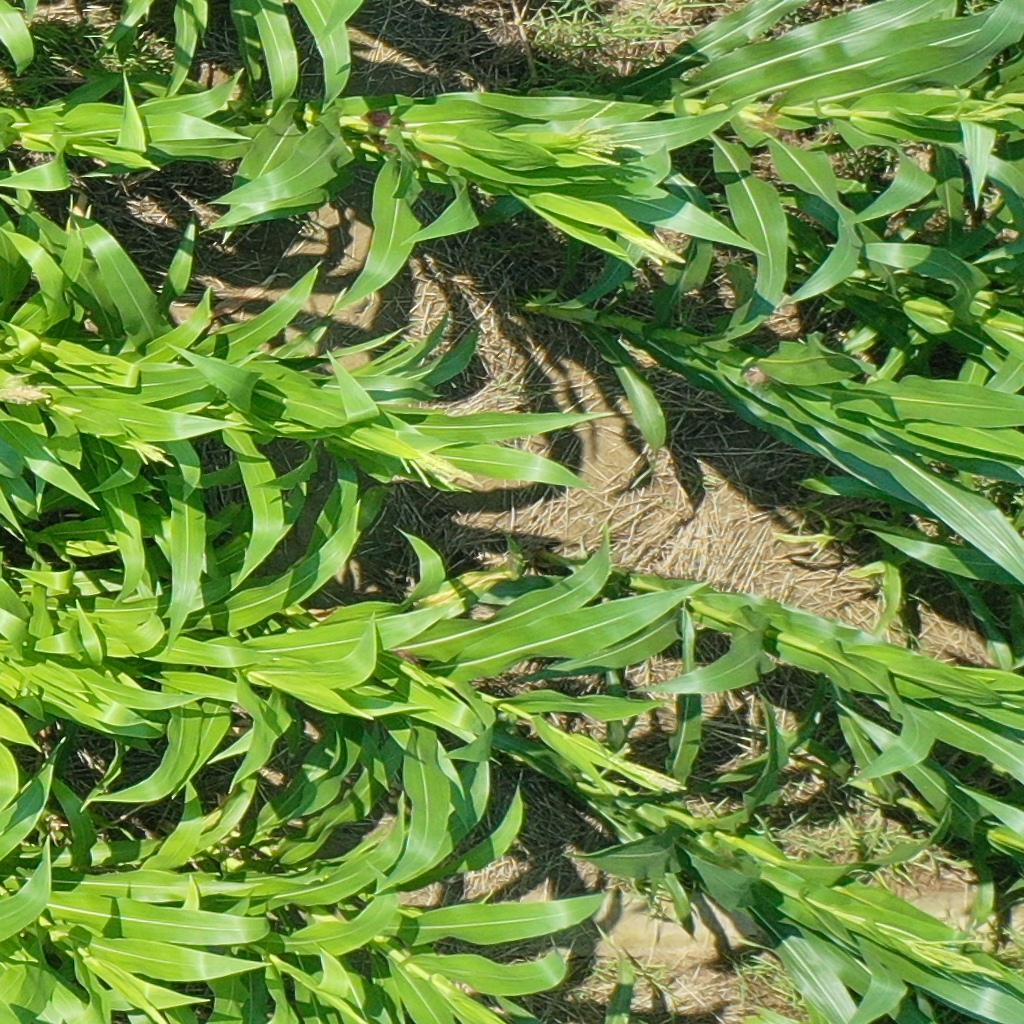Tassel: (554, 92, 643, 167), (398, 435, 482, 495), (906, 932, 1005, 980), (605, 740, 689, 796), (1, 372, 62, 411), (126, 435, 175, 467), (965, 100, 1017, 126)
